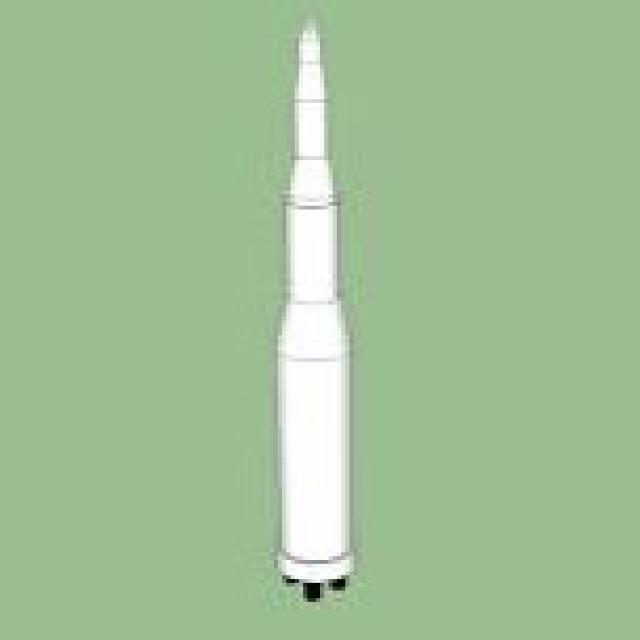missile: (264, 20, 357, 605)
